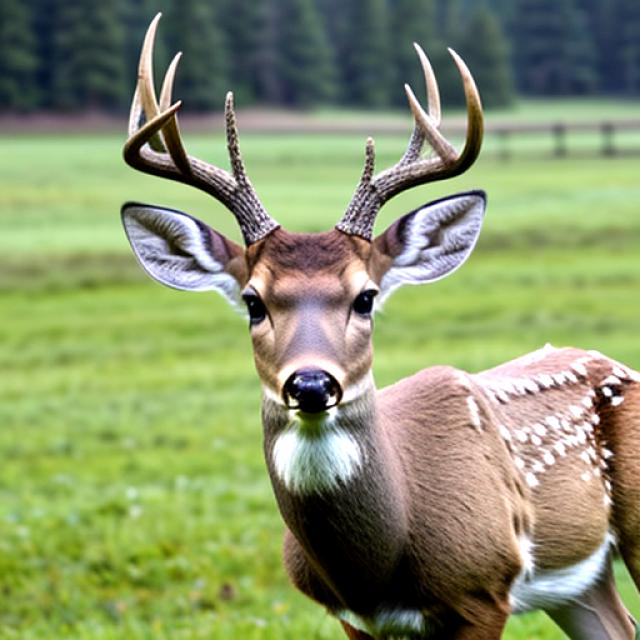deer: (89, 1, 640, 640)
